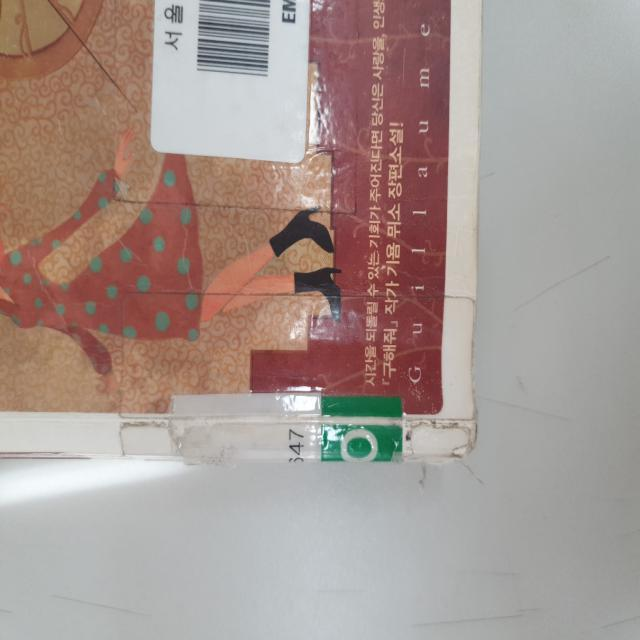Ripped: (449, 389, 489, 463)
Wornout: (468, 0, 491, 152), (462, 169, 486, 280)
